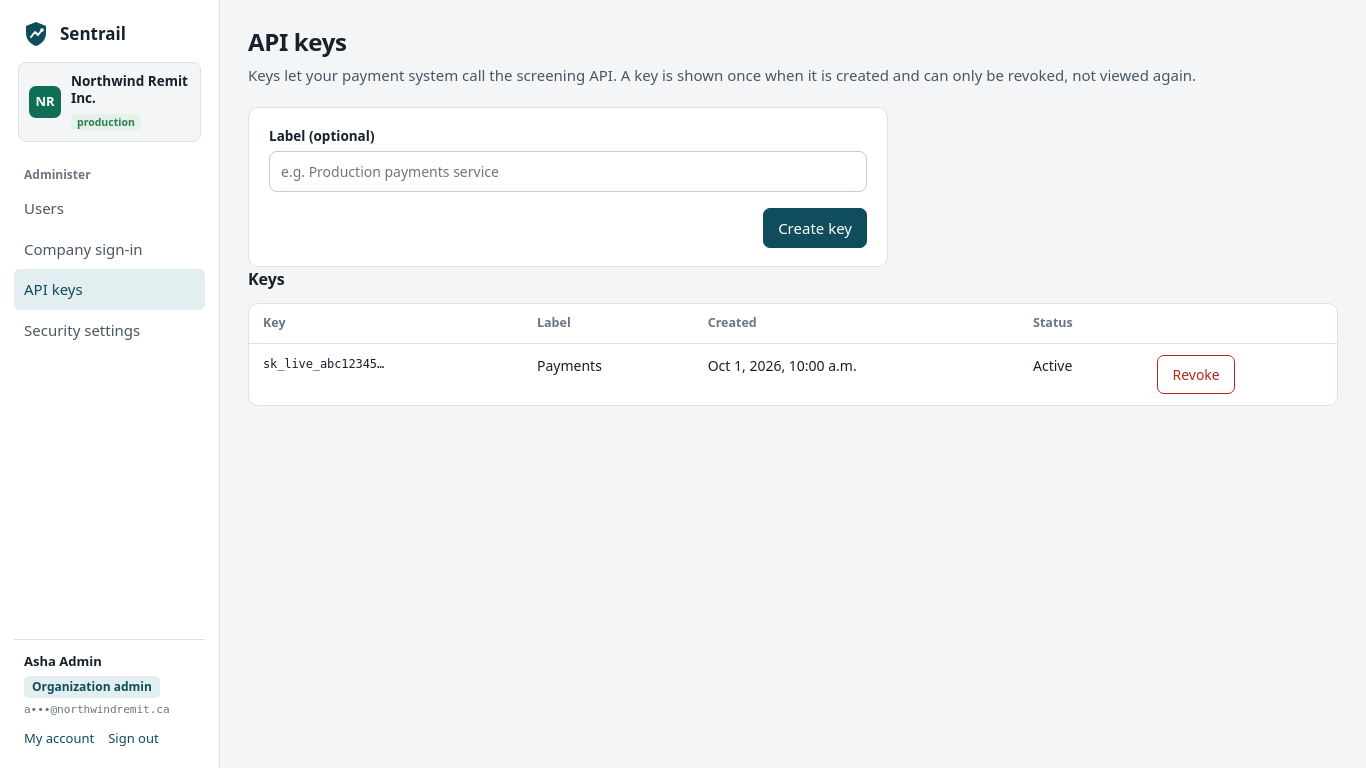
it: API keys › shows a new key once, then never again
Expected: the text "Payments" is shown, 523,344 -> 694,405
Click the button "Create key": x=815, y=228 763,208 -> 867,248
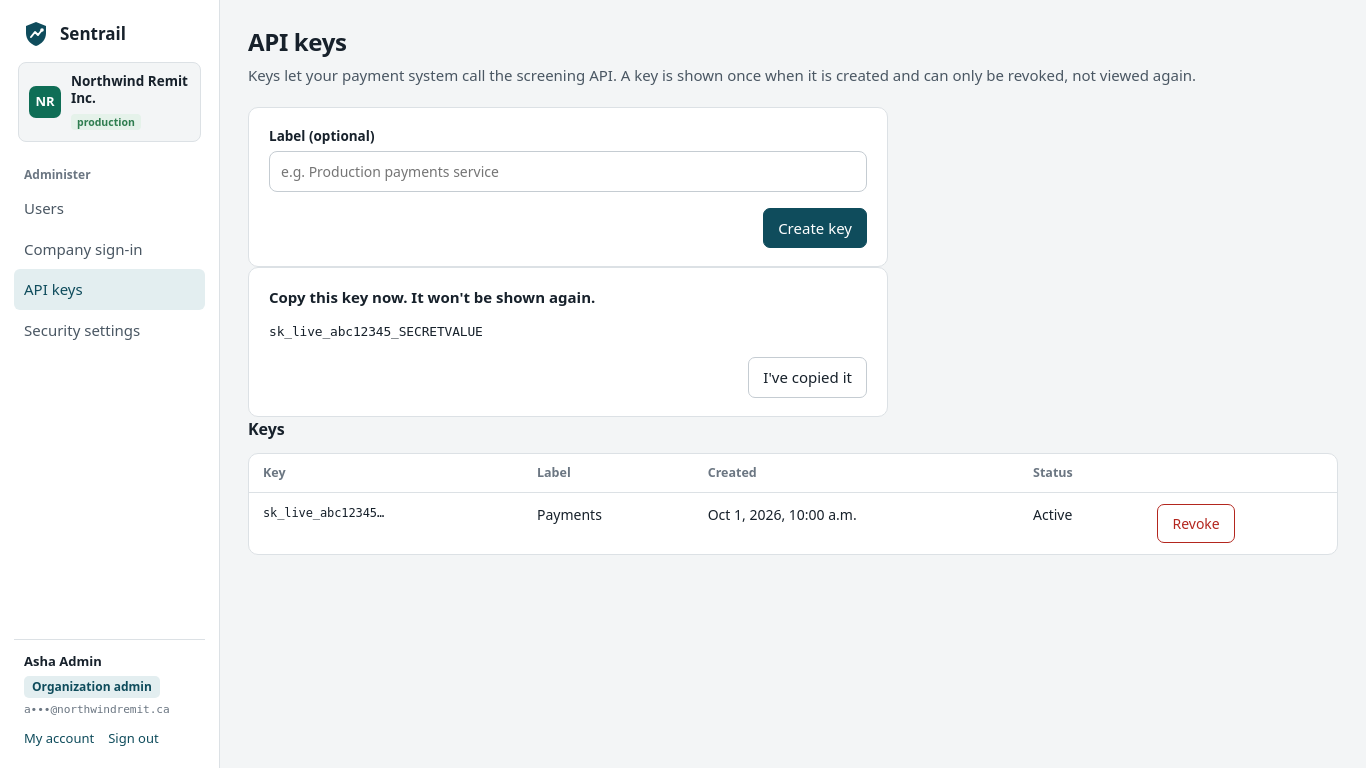
Expected: the text with test id "new-key" reads "sk_live_abc12345_SECRETVALUE", 269,324 -> 483,339
Click the button "I've copied it": x=808, y=377 748,357 -> 867,398
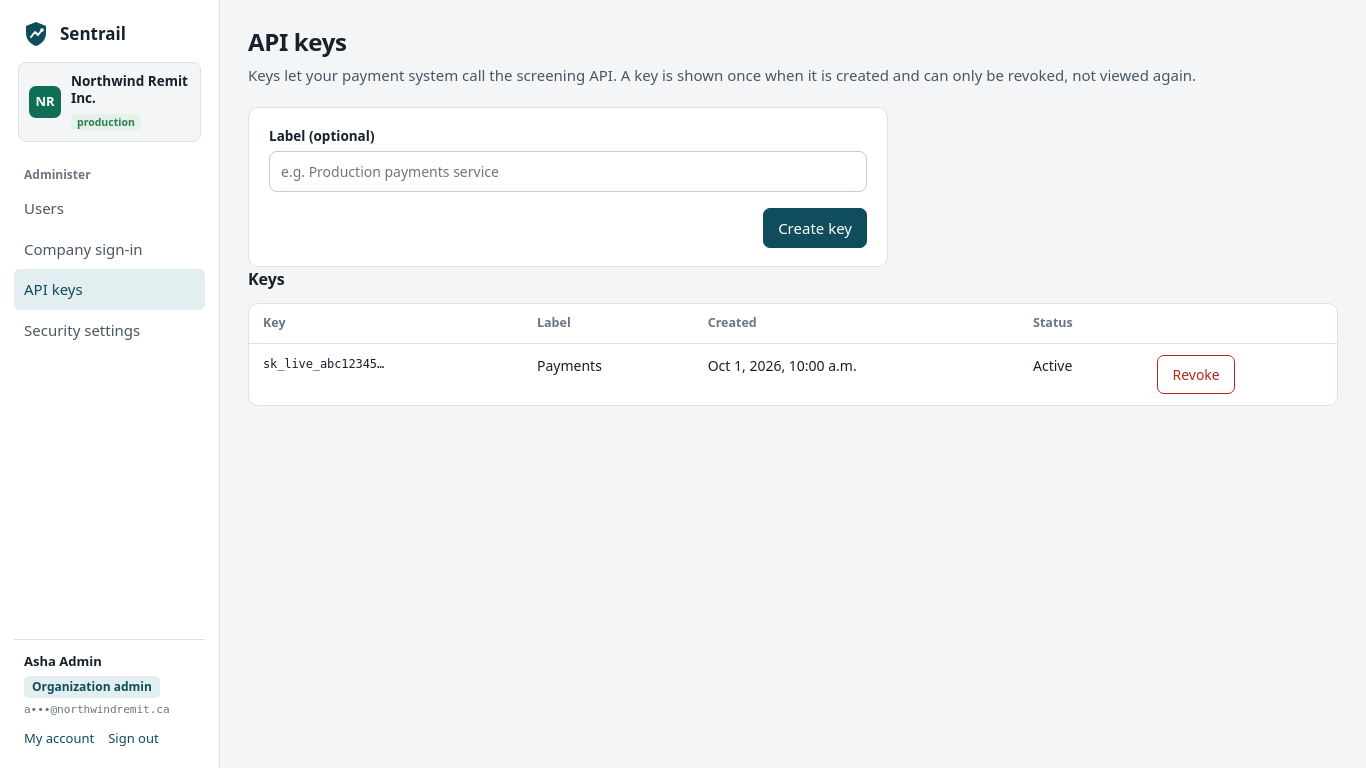
Expected: the text with test id "new-key" is gone
Expected: the text "SECRETVALUE" is gone
